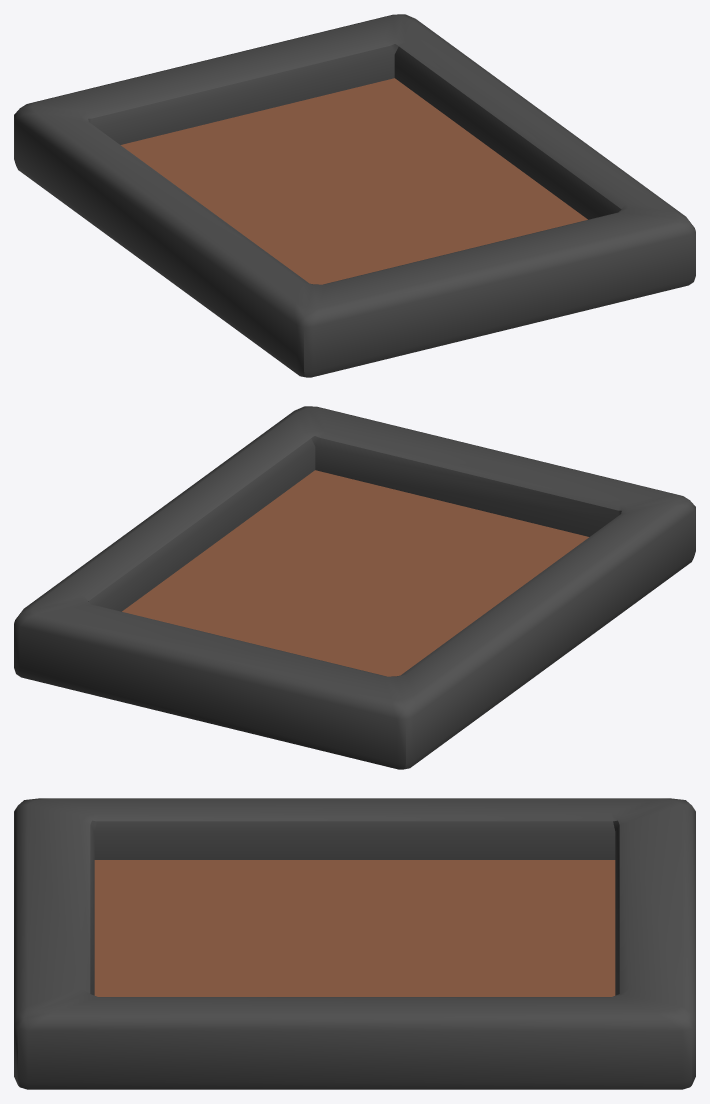
File: flower bed.fbx
3 views of the same model, one above another, from view 1: azimuth 30°, elevation 25°; view 2: azimuth 150°, elevation 25°; view 3: azimuth 270°, elevation 25° (orthographic). The views are drawn at different scales.
Visible parts, largest first — view 1: flower bed; view 2: flower bed; view 3: flower bed.
Part boxes in pixels (x1,y1,x2,y2): flower bed: [14, 14, 695, 377]; flower bed: [14, 406, 695, 769]; flower bed: [14, 798, 695, 1089].
Size of the model in its own units: 1.18 by 0.1881 by 1.51.
